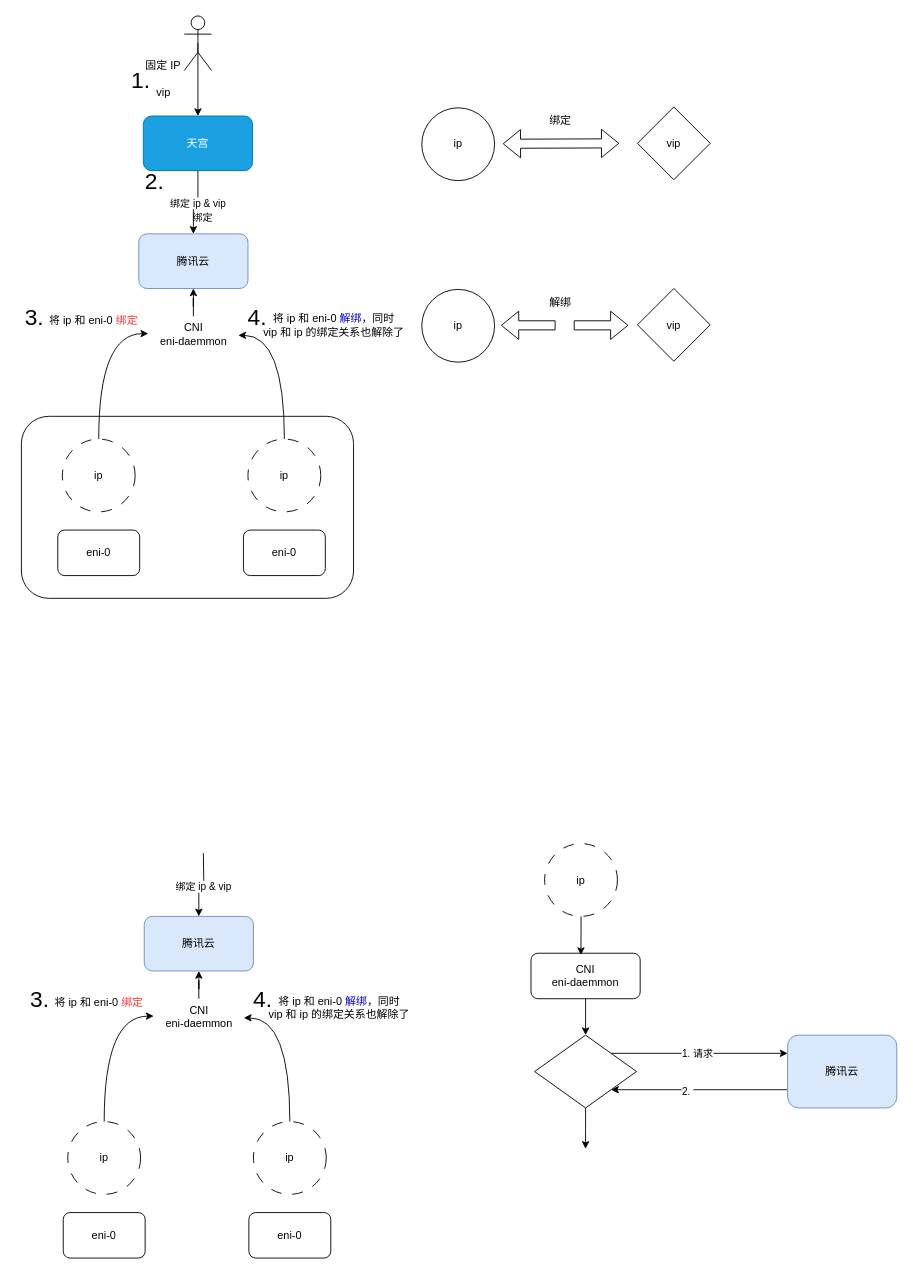
Some shapes in this 913 by 1274 pixel diagram are drawn without their labels. Here are the shapes that lost their labels. From the top down, the box of each, then its label:
(183, 15, 212, 71): 用户
(20, 415, 354, 598): Node
(534, 1034, 637, 1108): ip 是否有 vip 绑定需求
